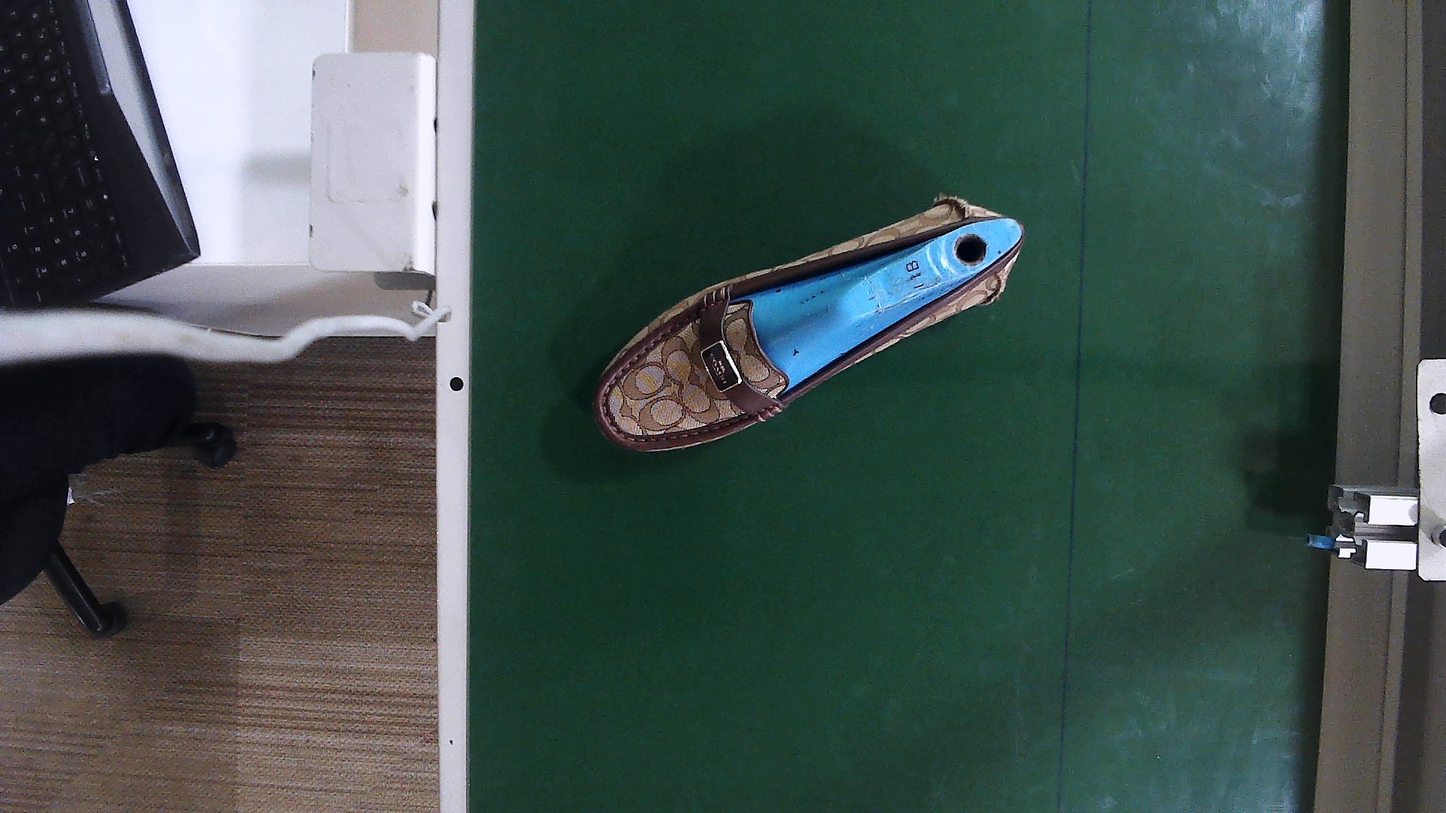shoe: (598, 198, 1022, 452)
